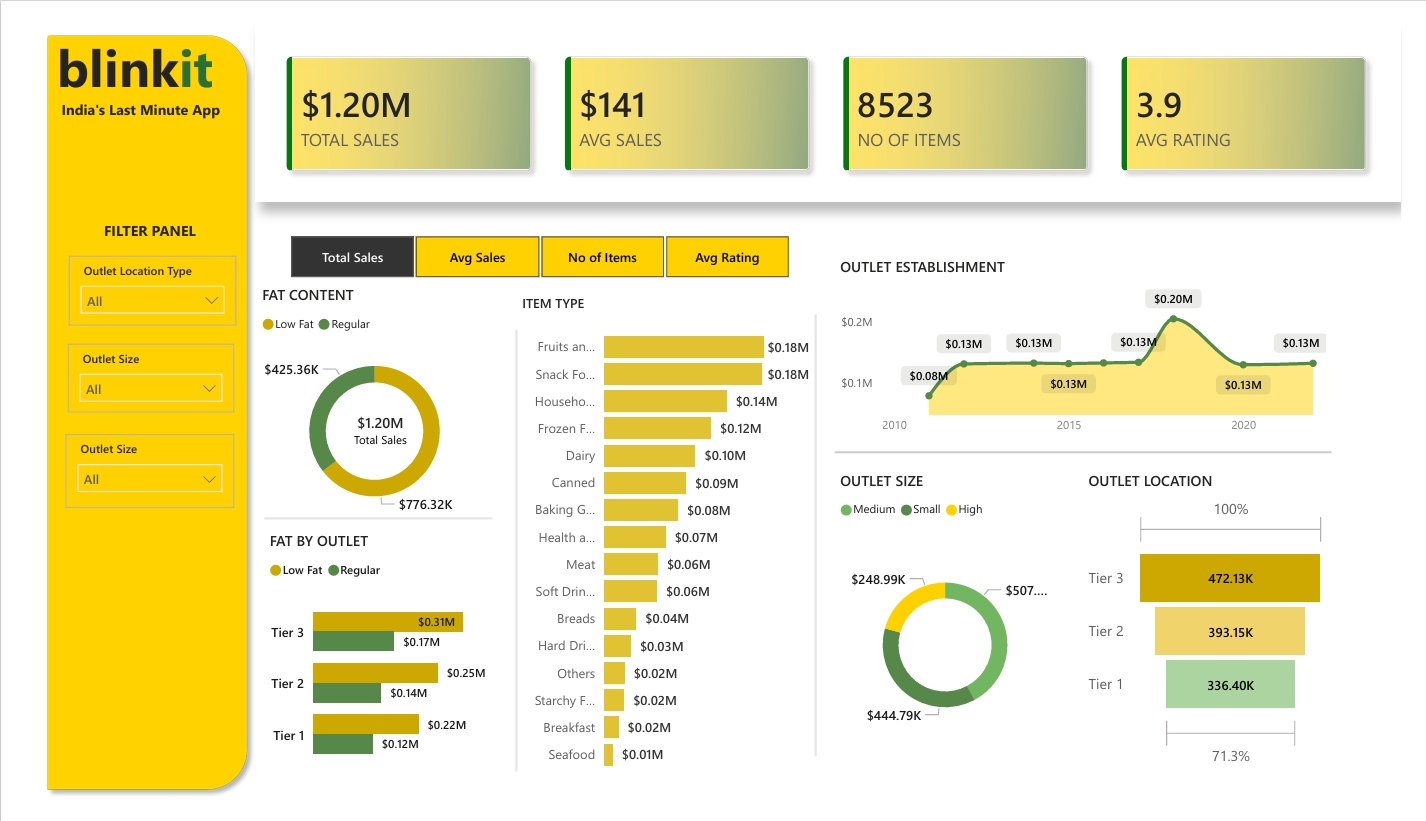

The page's visual inventory and layout, read from the dashboard file:
{"tool":"powerbi","page":{"name":"Page 1","canvas":[1280,720],"ordinal":0},"visuals":[{"type":"shape","box":[10.8,0,204.1,720.3],"z":0},{"type":"textbox","box":[0,0,204,128],"z":1000},{"type":"textbox","box":[0,64,214,28],"z":2000},{"type":"cardVisual","fields":{"Data":["BlinkIT Grocery Data.Total Sales","BlinkIT Grocery Data.Avg Sales","BlinkIT Grocery Data.No of Items","BlinkIT Grocery Data.Avg Rating"]},"box":[214.3,0,1065.7,164.3],"z":3000},{"type":"donutChart","title":"FAT CONTENT","fields":{"Y":["BlinkIT Grocery Data.Total Sales"],"Category":["BlinkIT Grocery Data.Item Fat Content"]},"box":[214.9,240.5,218.9,229.7],"z":4000},{"type":"slicer","fields":{"Values":["Metrics.Metrics"]},"box":[221.1,188.7,512.7,52.1],"z":5000},{"type":"cardVisual","fields":{"Data":["BlinkIT Grocery Data.Total Sales"]},"box":[260.6,338,138,76.1],"z":6000},{"type":"clusteredBarChart","title":"FAT BY OUTLET","fields":{"Y":["BlinkIT Grocery Data.Total Sales"],"Category":["BlinkIT Grocery Data.Outlet Location Type"],"Series":["BlinkIT Grocery Data.Item Fat Content"]},"box":[221.6,470.3,233.8,233.8],"z":7000},{"type":"shape","box":[221.6,439.2,212.2,39.2],"z":8000},{"type":"lineChart","title":"OUTLET ESTABLISHMENT","fields":{"Y":["BlinkIT Grocery Data.Total Sales"],"Category":["BlinkIT Grocery Data.Outlet Establishment Year"]},"box":[752.7,214.9,462.2,173],"z":9000},{"type":"shape","box":[752.7,320.3,462.2,154.1],"z":10000},{"type":"donutChart","title":"OUTLET SIZE","fields":{"Y":["BlinkIT Grocery Data.Total Sales"],"Category":["BlinkIT Grocery Data.Outlet Size"]},"box":[752.7,413.5,205.4,281.1],"z":11000},{"type":"shape","box":[538.6,268.6,392.9,411.4],"z":12000},{"type":"funnel","title":"OUTLET LOCATION","fields":{"Category":["BlinkIT Grocery Data.Outlet Location Type"],"Y":["Sum(BlinkIT Grocery Data.Sales)"]},"box":[983.8,413.5,231.1,281.1],"z":13000},{"type":"slicer","fields":{"Values":["BlinkIT Grocery Data.Outlet Location Type"]},"box":[40,214.3,155.7,64.3],"z":15000},{"type":"slicer","fields":{"Values":["BlinkIT Grocery Data.Outlet Size"]},"box":[38.6,295.7,155.7,64.3],"z":16000},{"type":"barChart","title":"ITEM TYPE","fields":{"Y":["BlinkIT Grocery Data.Total Sales"],"Category":["BlinkIT Grocery Data.Item Type"]},"box":[457.1,250,277.1,454.3],"z":17000},{"type":"slicer","fields":{"Values":["BlinkIT Grocery Data.Outlet Size"]},"box":[37.1,380,157.1,68.6],"z":18000},{"type":"shape","box":[260,282.9,392.9,411.4],"z":19000},{"type":"textbox","box":[14.3,177.1,202.9,62.9],"z":20000}]}

Visuals, with their boxes in screenshot pixels (x1, y1, x2, y2), scaled from the page's 1280x720 canvas onto the 1426x821 screenshot:
shape: region(12, 0, 239, 820)
textbox: region(0, 0, 227, 146)
textbox: region(0, 73, 238, 105)
cardVisual - BlinkIT Grocery Data.Total Sales x BlinkIT Grocery Data.Avg Sales: region(239, 0, 1425, 187)
"FAT CONTENT" donutChart: region(239, 274, 483, 536)
slicer - Metrics.Metrics: region(246, 215, 817, 275)
cardVisual - BlinkIT Grocery Data.Total Sales: region(290, 385, 444, 472)
"FAT BY OUTLET" clusteredBarChart: region(247, 536, 507, 803)
shape: region(247, 501, 483, 546)
"OUTLET ESTABLISHMENT" lineChart: region(839, 245, 1353, 442)
shape: region(839, 365, 1353, 541)
"OUTLET SIZE" donutChart: region(839, 472, 1067, 792)
shape: region(600, 306, 1038, 775)
"OUTLET LOCATION" funnel: region(1096, 472, 1353, 792)
slicer - BlinkIT Grocery Data.Outlet Location Type: region(45, 244, 218, 318)
slicer - BlinkIT Grocery Data.Outlet Size: region(43, 337, 216, 410)
"ITEM TYPE" barChart: region(509, 285, 818, 803)
slicer - BlinkIT Grocery Data.Outlet Size: region(41, 433, 216, 512)
shape: region(290, 323, 727, 792)
textbox: region(16, 202, 242, 274)
